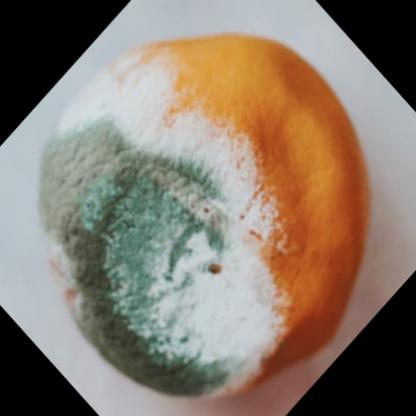rotten: (41, 35, 371, 405)
